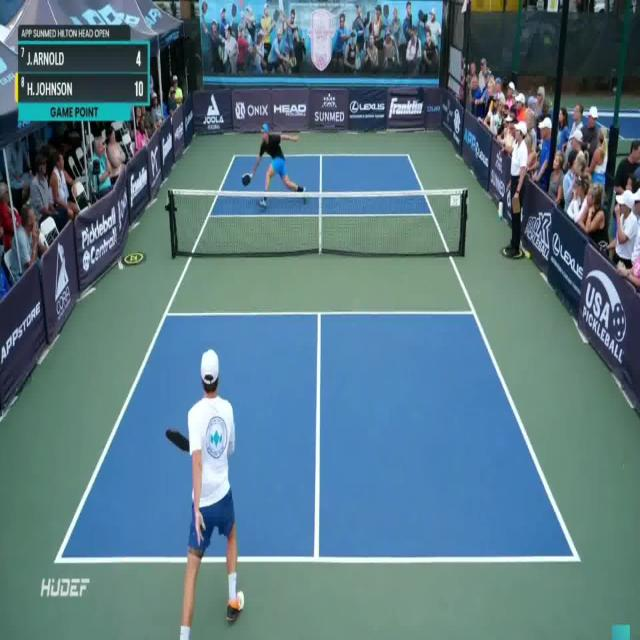Court: (58, 152, 581, 561)
